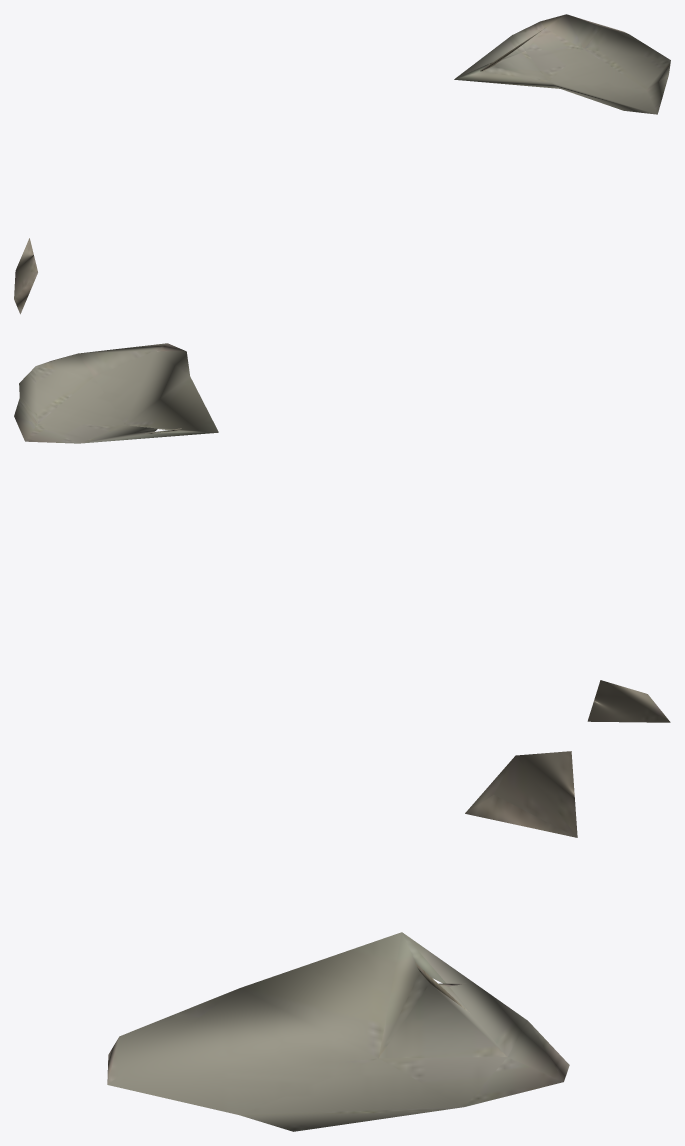
3 views of the same model, one above another, from view 1: azimuth 30°, elevation 25°; view 2: azimuth 150°, elevation 25°; view 3: azimuth 270°, elevation 25° (orthographic). The views are drawn at different scales.
Bounding box in the file's own units: 1.53 × 0.3894 × 0.5133.
Materials: 1 (1 with a texture image).
